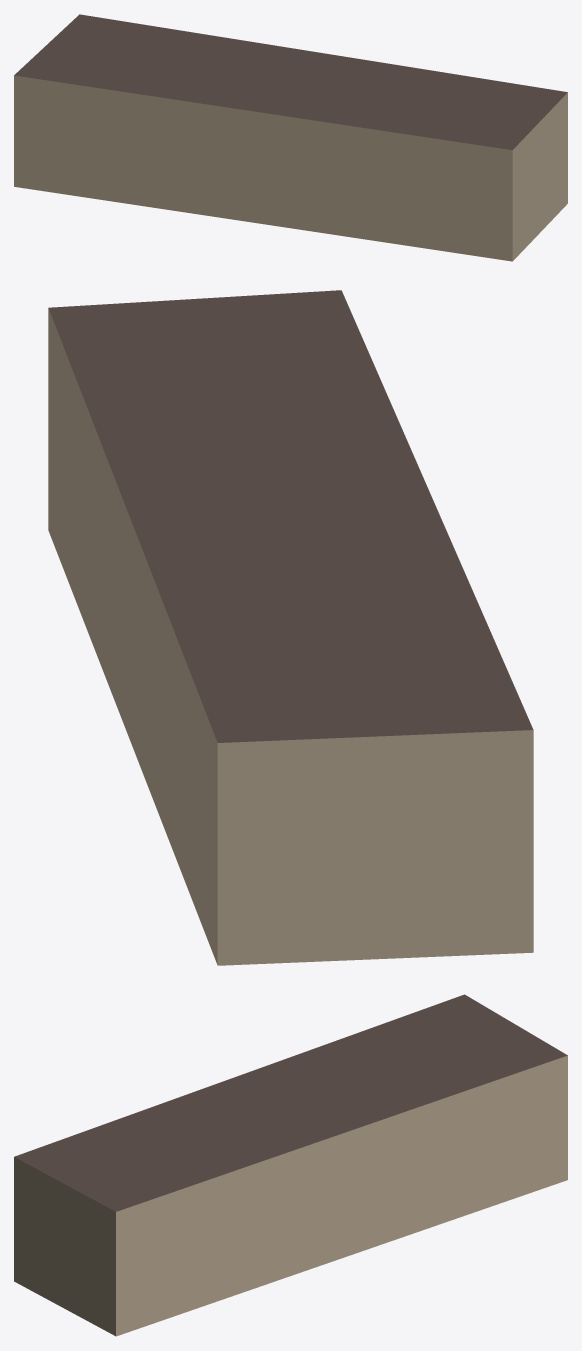
The picture shows the model from 3 angles, top to bottom: view 1: azimuth 30°, elevation 25°; view 2: azimuth 150°, elevation 25°; view 3: azimuth 270°, elevation 25°; orthographic projection. The views are drawn at different scales.
Parts seen in each view (by area): view 1: HP-w1197052539; view 2: HP-w1197052539; view 3: HP-w1197052539.
Boxes of the visible parts, <box> form: HP-w1197052539: <box>14,14,567,261</box>; HP-w1197052539: <box>48,290,533,965</box>; HP-w1197052539: <box>14,994,567,1336</box>.
Bounding box in the file's own units: 33.68 × 9 × 36.26.
